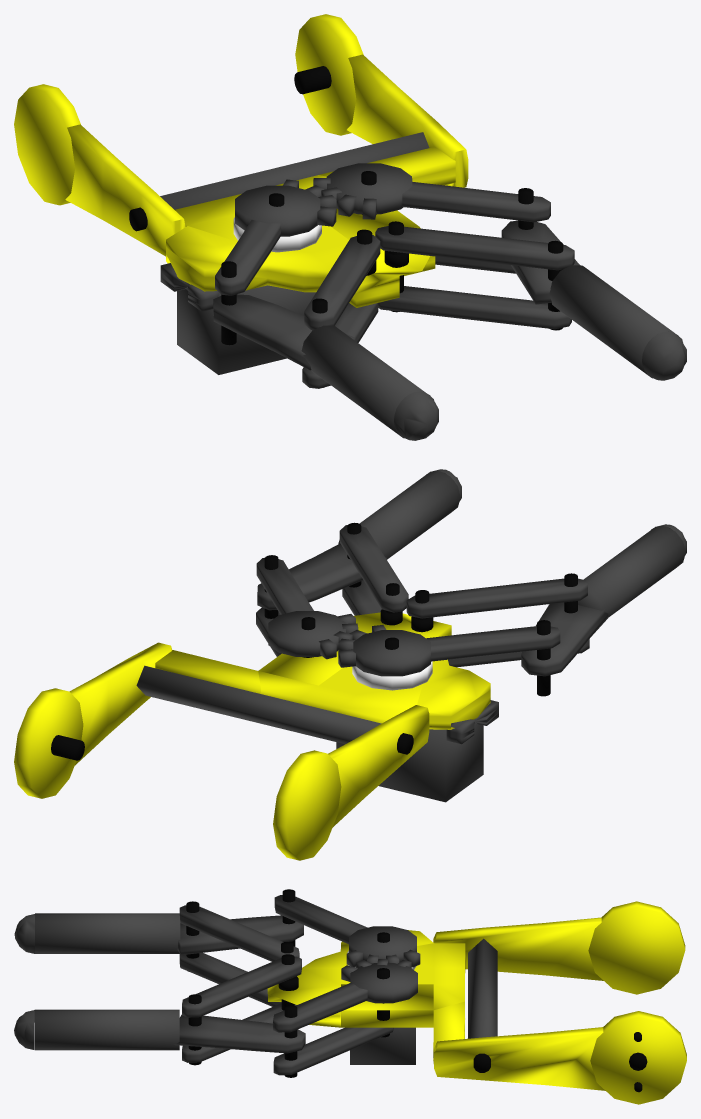
Rendered from hand.obj.
3 views of the same model, one above another, from view 1: azimuth 30°, elevation 25°; view 2: azimuth 150°, elevation 25°; view 3: azimuth 270°, elevation 25° (orthographic). The views are drawn at different scales.
Visible parts, largest first — view 1: block00034, cylinder07, cylinder08, cylinder27, cylinder26, box0000051, block00019, box0000014, block00020, block00025, block00041, block00033 (+12 smaller); view 2: block00034, cylinder07, cylinder08, box0000014, cylinder26, box0000051, cylinder27, block00033, block00022, block00025, cylinder46, block00036 (+9 smaller); view 3: cylinder08, cylinder07, block00034, cylinder27, cylinder26, block00036, box0000014, block00019, block00033, block00015, block00041, block00025 (+10 smaller).
Boxes of the visible parts, bbox=[...] form: block00034: bbox=[166, 147, 455, 307]; cylinder07: bbox=[14, 84, 185, 256]; cylinder08: bbox=[295, 14, 468, 187]; cylinder27: bbox=[549, 265, 682, 378]; cylinder26: bbox=[301, 325, 433, 438]; box0000051: bbox=[177, 285, 315, 374]; block00019: bbox=[375, 226, 574, 270]; box0000014: bbox=[160, 132, 429, 209]; block00020: bbox=[378, 286, 571, 329]; block00025: bbox=[213, 294, 355, 370]; block00041: bbox=[402, 182, 550, 222]; block00033: bbox=[304, 235, 380, 330]; block00034: bbox=[155, 612, 490, 729]; cylinder07: bbox=[273, 705, 429, 860]; cylinder08: bbox=[14, 642, 172, 798]; box0000014: bbox=[136, 665, 381, 744]; cylinder26: bbox=[578, 526, 685, 617]; box0000051: bbox=[336, 723, 483, 802]; cylinder27: bbox=[338, 471, 460, 559]; block00033: bbox=[406, 578, 587, 618]; block00022: bbox=[426, 626, 560, 661]; block00025: bbox=[521, 602, 608, 676]; cylinder46: bbox=[353, 630, 430, 676]; block00036: bbox=[257, 544, 386, 610]; cylinder08: bbox=[434, 1011, 686, 1104]; cylinder07: bbox=[433, 901, 685, 994]; block00034: bbox=[267, 930, 465, 1063]; cylinder27: bbox=[34, 1009, 179, 1050]; cylinder26: bbox=[35, 913, 180, 953]; block00036: bbox=[174, 1014, 305, 1053]; box0000014: bbox=[468, 938, 497, 1038]; block00019: bbox=[182, 956, 301, 1017]; block00033: bbox=[179, 905, 299, 961]; block00015: bbox=[273, 1027, 393, 1075]; block00041: bbox=[273, 982, 367, 1032]; block00025: bbox=[177, 915, 303, 955].
Size of the model in its own units: 0.3534 by 0.142 by 0.7257.
